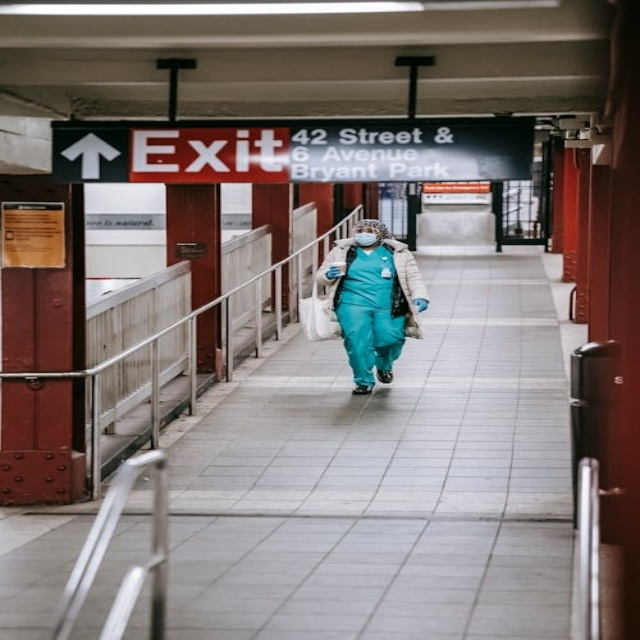Guantes: (326, 266, 343, 280), (413, 299, 429, 313)
Mascara: (353, 233, 379, 246)
